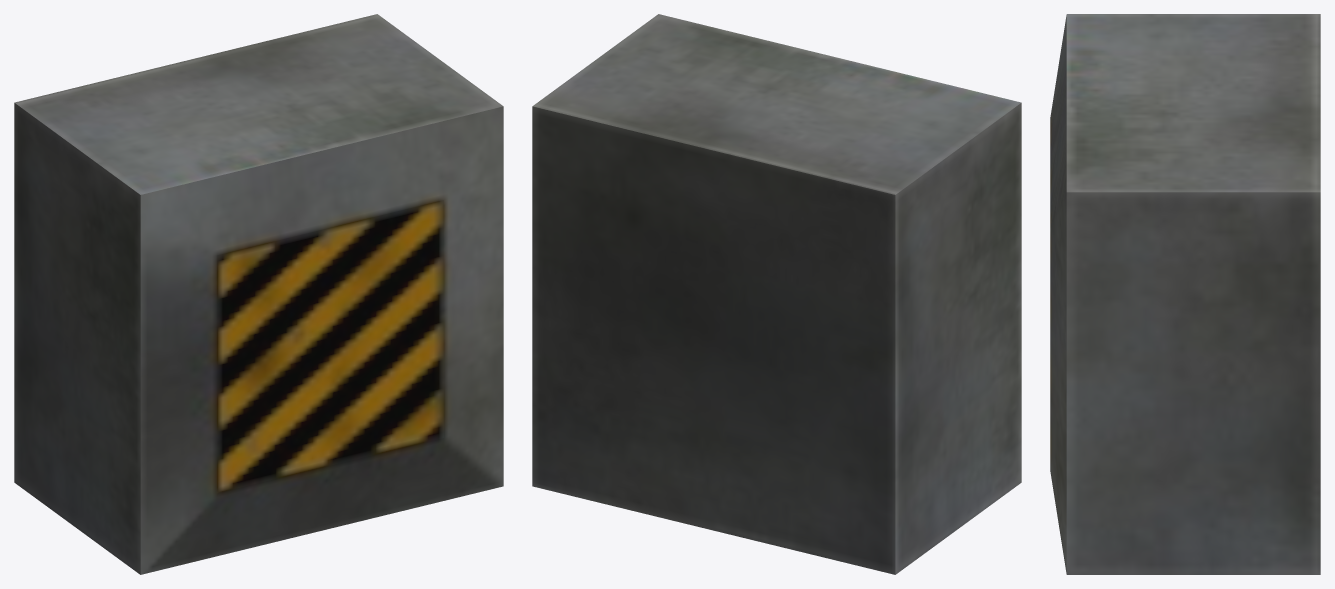
Rendered from hardware5.obj.
3 views of the same model, side by side, from view 1: azimuth 30°, elevation 25°; view 2: azimuth 150°, elevation 25°; view 3: azimuth 270°, elevation 25° (orthographic).
Parts seen in each view (by area): view 1: Object05; view 2: Object05; view 3: Object05.
Part boxes in pixels (x1,y1,x2,y2): Object05: (14, 14, 503, 574); Object05: (532, 14, 1021, 574); Object05: (1050, 14, 1320, 574).
Size of the model in its own units: 20.04 by 20.04 by 12.84.
Materials: 1 (1 with a texture image).
